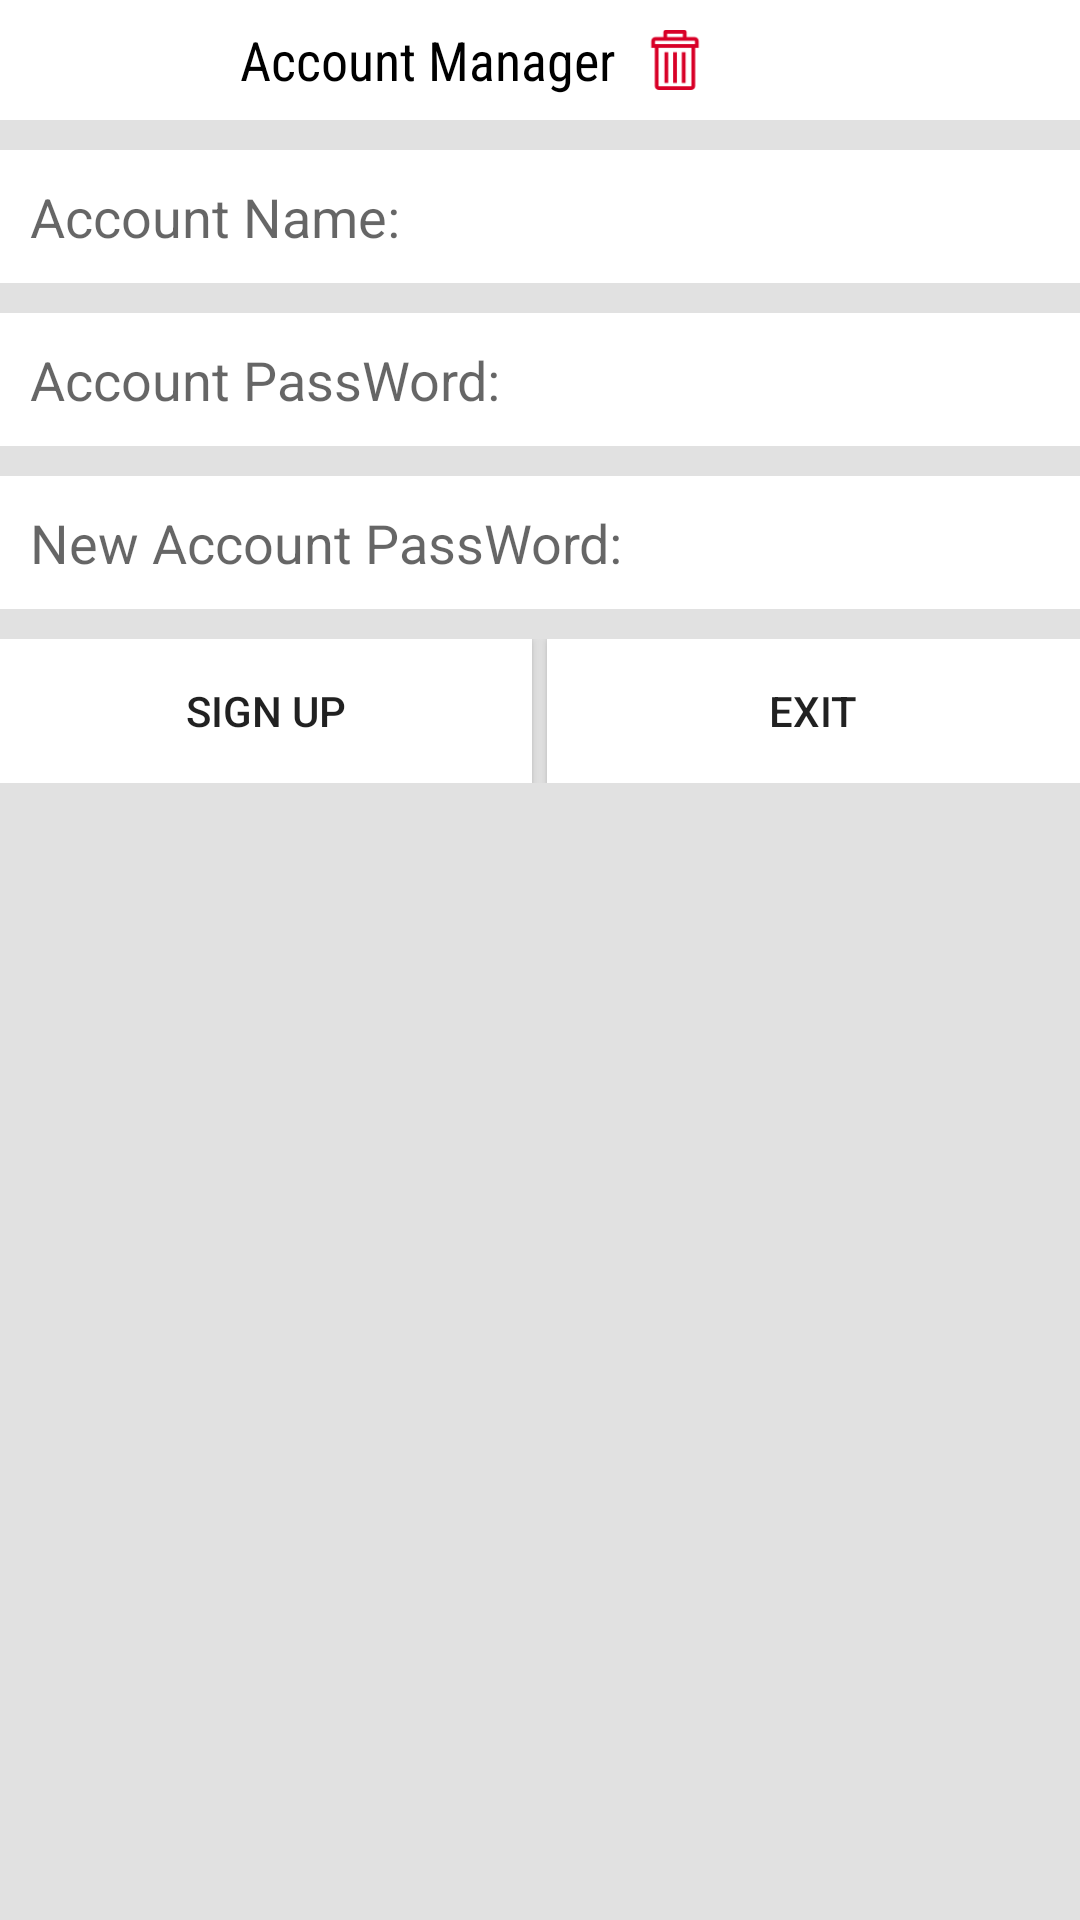

Where icons sit on this 1080 × 1920 app screen, as region(x1, y1, x2, y2):
delete: region(650, 30, 700, 90)
